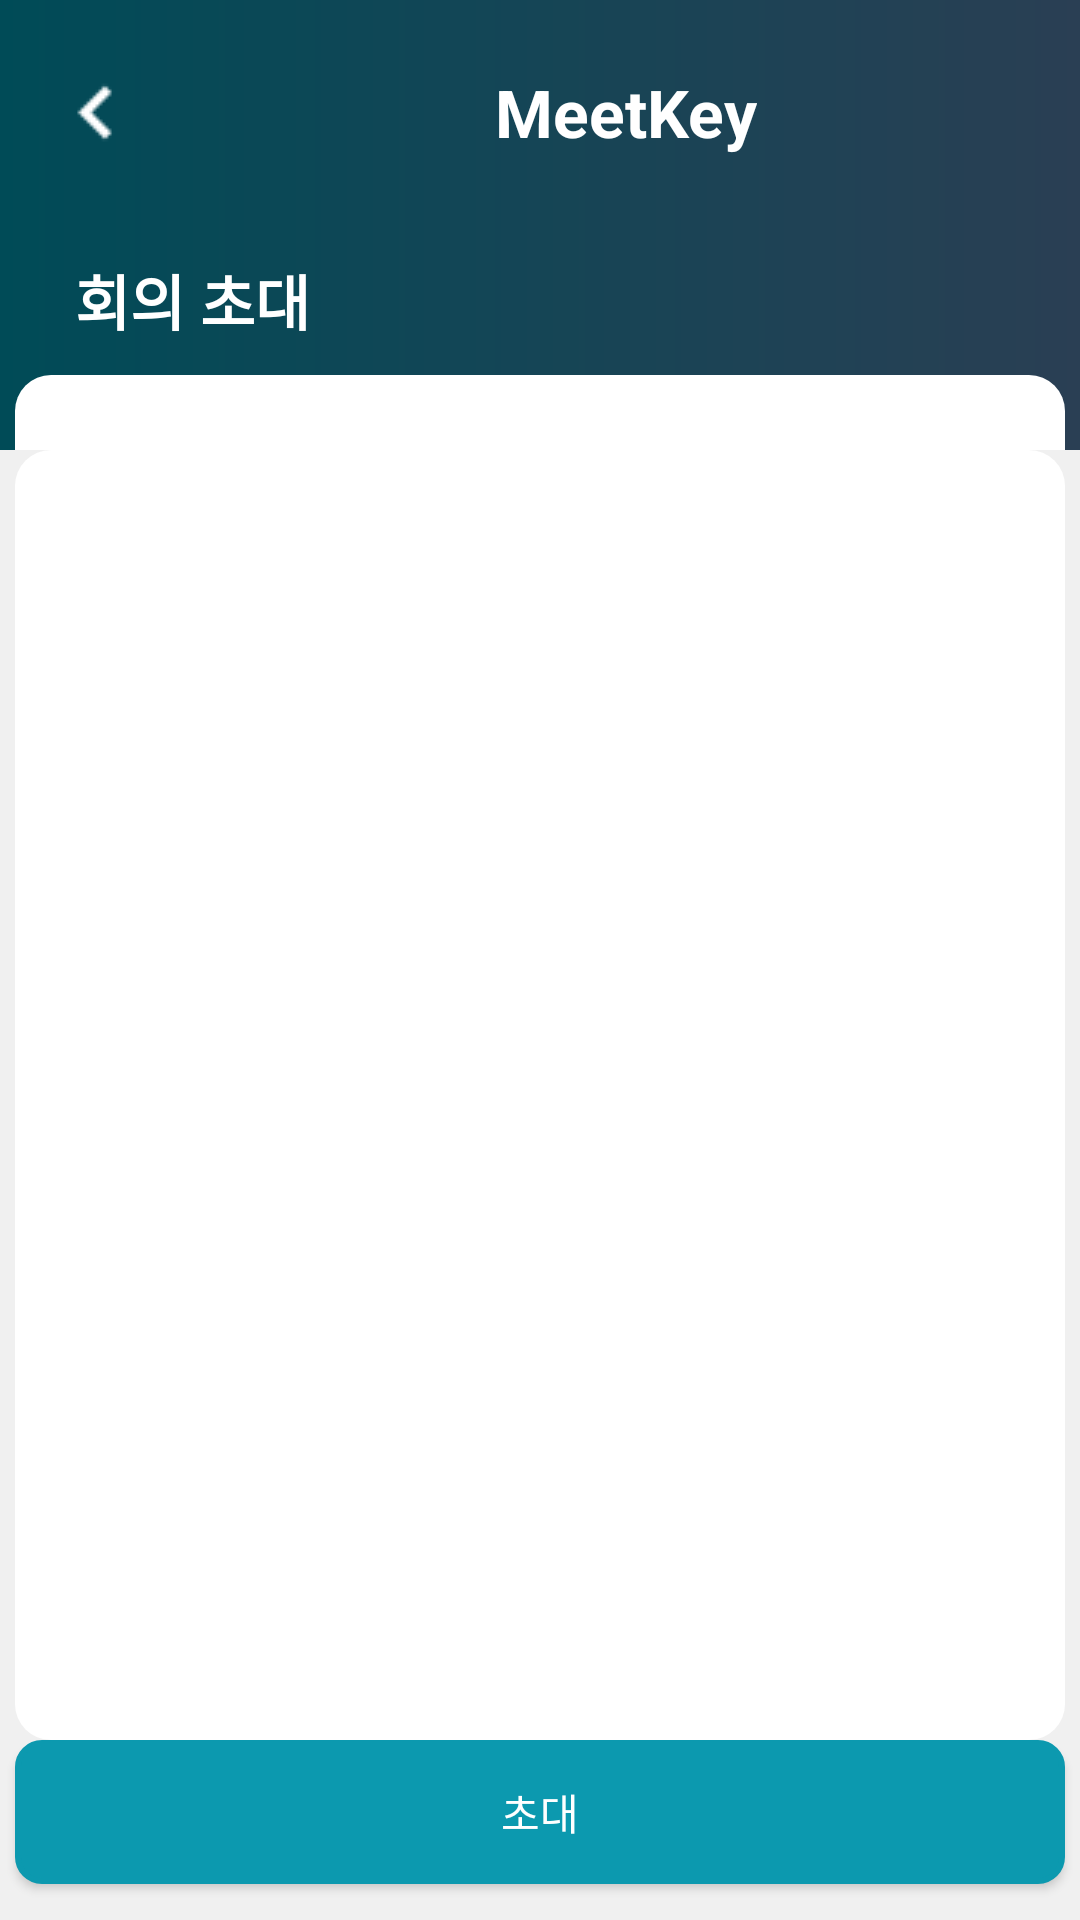

Icon bounding boxes for this 1080 × 1920 phone screenshot, format rect(x1, y1, x2, y2):
back: rect(77, 86, 112, 139)
